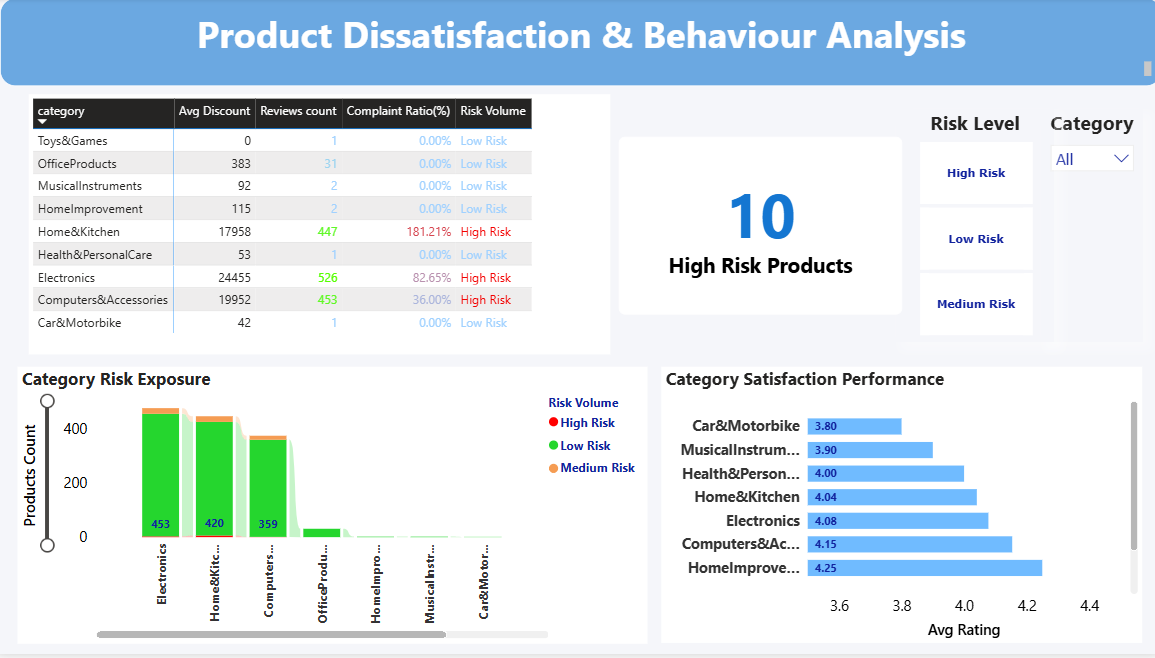

The page's visual inventory and layout, read from the dashboard file:
{"tool":"powerbi","page":{"name":"Deep Analysis","canvas":[1280,720],"ordinal":1},"visuals":[{"type":"textbox","box":[5,0,1275,96.7],"z":0},{"type":"slicer","title":"Category","fields":{"Values":["Amazon_final_analysis.category"]},"box":[1148.3,121.7,111.7,255],"z":1000},{"type":"slicer","title":"Risk Level","fields":{"Values":["Amazon_final_analysis.risk_level"]},"box":[990,121.7,173.3,255],"z":2000},{"type":"pivotTable","fields":{"Rows":["Amazon_final_analysis.product_name","Amazon_final_analysis.category"],"Values":["Sum(Amazon_final_analysis.avg_discount)","Sum(Amazon_final_analysis.total_reviews)","Amazon_final_analysis.Avg Complaint Ratio","Min(Amazon_final_analysis.risk_level)"]},"box":[37,105.7,638.1,285.4],"z":3000},{"type":"columnChart","title":"Category Risk Exposure","fields":{"Category":["Amazon_final_analysis.category"],"Y":["Count(Amazon_final_analysis.product_name)"],"Series":["Amazon_final_analysis.risk_level"]},"box":[24.7,404.8,691.6,303.3],"z":4000},{"type":"clusteredBarChart","title":"Category Satisfaction Performance","fields":{"Category":["Amazon_final_analysis.category"],"Y":["Avg(Amazon_final_analysis.avg_rating)"]},"box":[731.4,404.8,528.3,303.3],"z":5000},{"type":"card","fields":{"Values":["Amazon_final_analysis.High Risk Products"]},"box":[684.7,152.3,311.5,194.9],"z":6000}]}

Visuals, with their boxes in screenshot pixels (x1, y1, x2, y2), scaled from the page's 1280x720 canvas onto the 1155x658 screenshot:
textbox: x1=5 y1=0 x2=1154 y2=88
"Category" slicer: x1=1036 y1=111 x2=1137 y2=344
"Risk Level" slicer: x1=893 y1=111 x2=1050 y2=344
pivotTable - Amazon_final_analysis.product_name x Amazon_final_analysis.category: x1=33 y1=97 x2=609 y2=357
"Category Risk Exposure" columnChart: x1=22 y1=370 x2=646 y2=647
"Category Satisfaction Performance" clusteredBarChart: x1=660 y1=370 x2=1137 y2=647
card - Amazon_final_analysis.High Risk Products: x1=618 y1=139 x2=899 y2=317
